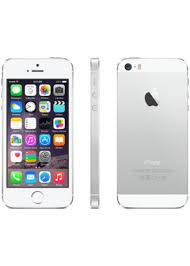iphone: (111, 53, 187, 212), (1, 53, 75, 209)
iphone5: (112, 54, 188, 213), (1, 53, 75, 209)
